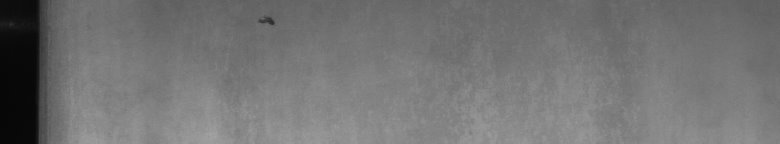fi: (257, 8, 279, 32)
